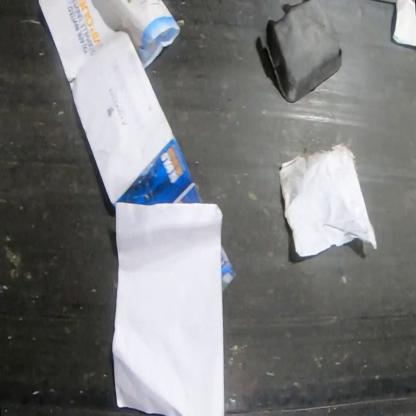rigid_plastic: (264, 0, 343, 104)
